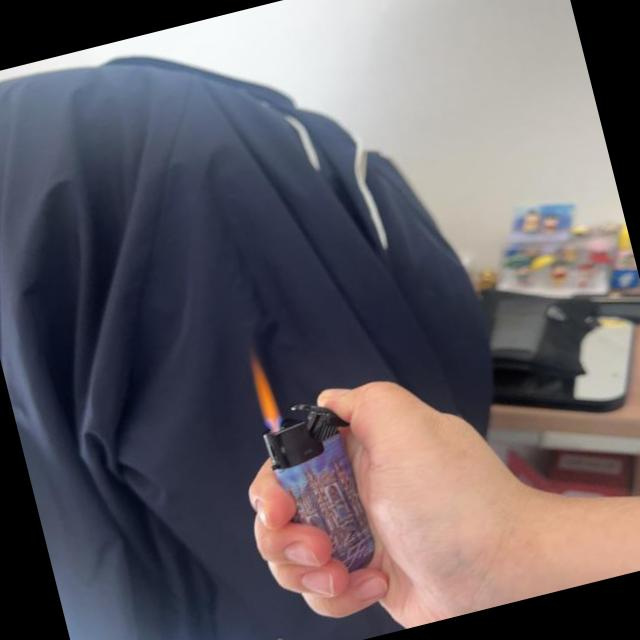Fire: (244, 354, 286, 430)
